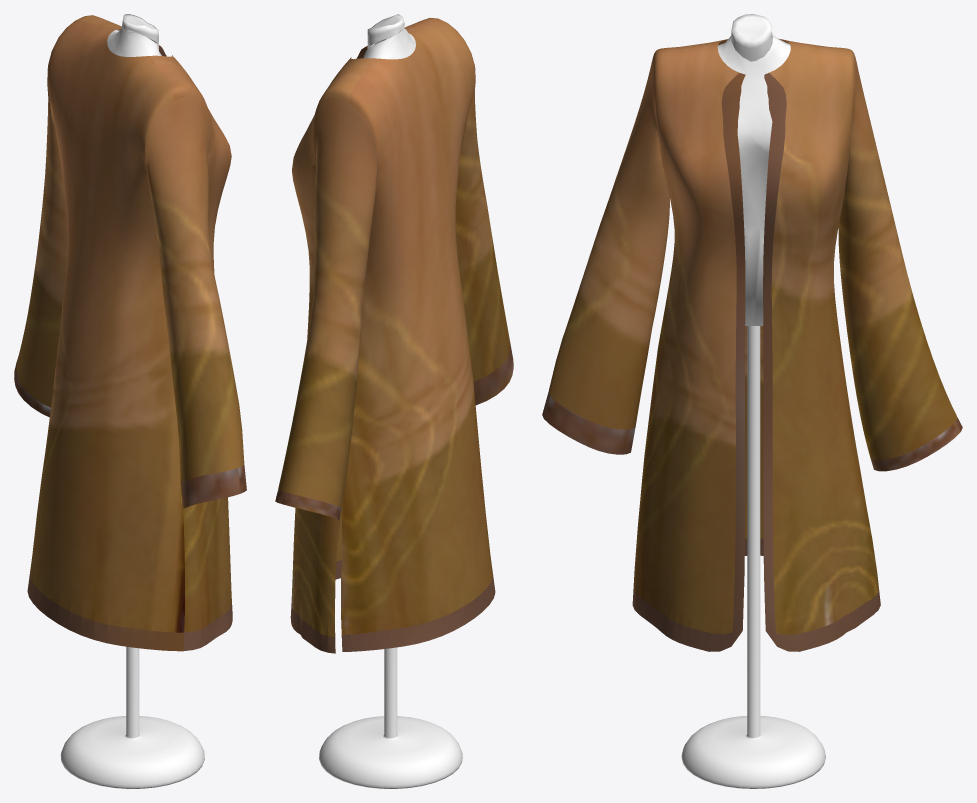
3 renders of one model, left to right at view 1: azimuth 30°, elevation 25°; view 2: azimuth 150°, elevation 25°; view 3: azimuth 270°, elevation 25°, orthographic.
Parts seen in each view (by area): view 1: 3.036_lambert3.027_0, DYTIEZ-01_Blouse.094, rp_claudia_rigged_002_geo.035; view 2: 3.036_lambert3.027_0, DYTIEZ-01_Blouse.094, rp_claudia_rigged_002_geo.035; view 3: 3.036_lambert3.027_0, DYTIEZ-01_Blouse.094, rp_claudia_rigged_002_geo.035.
Boxes of the visible parts, bbox=[...] form: 3.036_lambert3.027_0: bbox=[14, 15, 246, 651]; DYTIEZ-01_Blouse.094: bbox=[60, 646, 204, 788]; rp_claudia_rigged_002_geo.035: bbox=[107, 14, 161, 56]; 3.036_lambert3.027_0: bbox=[275, 17, 513, 653]; DYTIEZ-01_Blouse.094: bbox=[319, 38, 462, 788]; rp_claudia_rigged_002_geo.035: bbox=[363, 14, 415, 59]; 3.036_lambert3.027_0: bbox=[542, 38, 962, 651]; DYTIEZ-01_Blouse.094: bbox=[681, 326, 825, 788]; rp_claudia_rigged_002_geo.035: bbox=[717, 14, 790, 325].
Size of the model in its own units: 38.07 by 156 by 80.12.
Materials: 3 (1 with a texture image).
